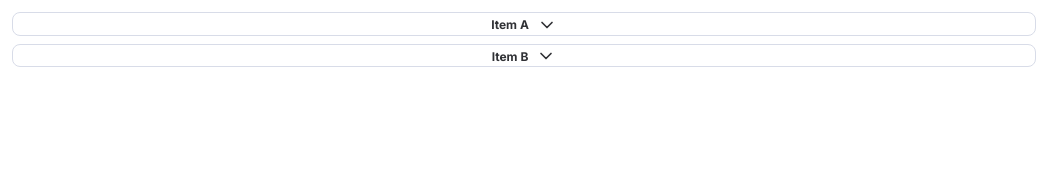
Scenario: Accordion › collapses on second click
The width and height of the screenshot is (1048, 172).
Step 1. Click the button "Item A" → click(524, 25), box [13,15,1035,35]
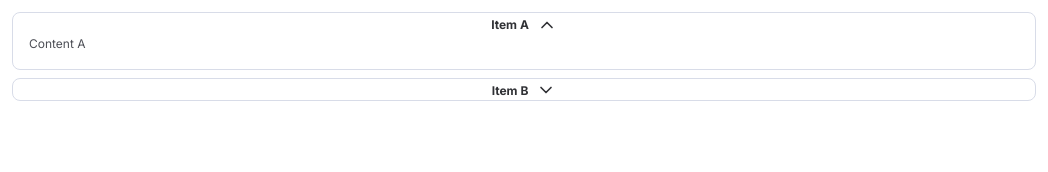
Step 2. Click the button "Item A" → click(524, 25), box [13,15,1035,35]
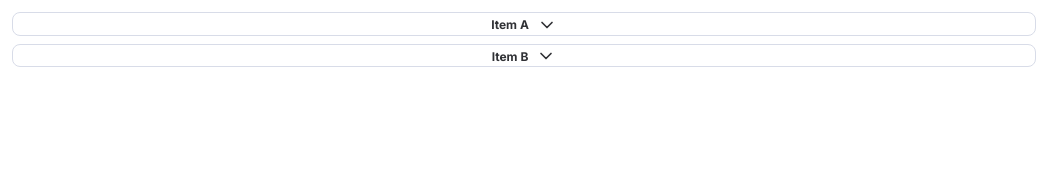
Now the button "Item A" is collapsed, box [13,15,1035,35]
